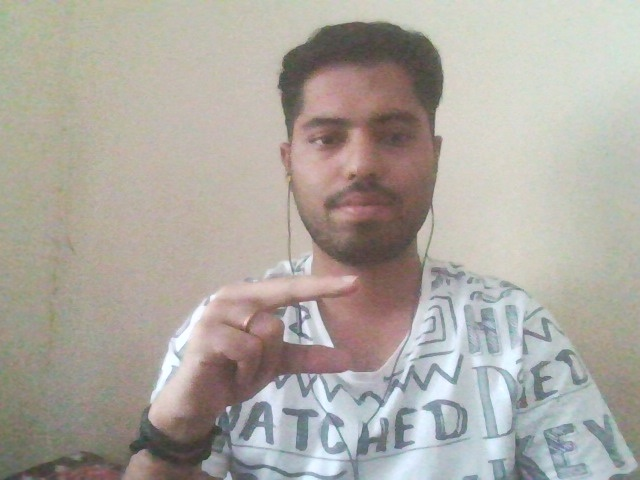No: (136, 236, 391, 386)
